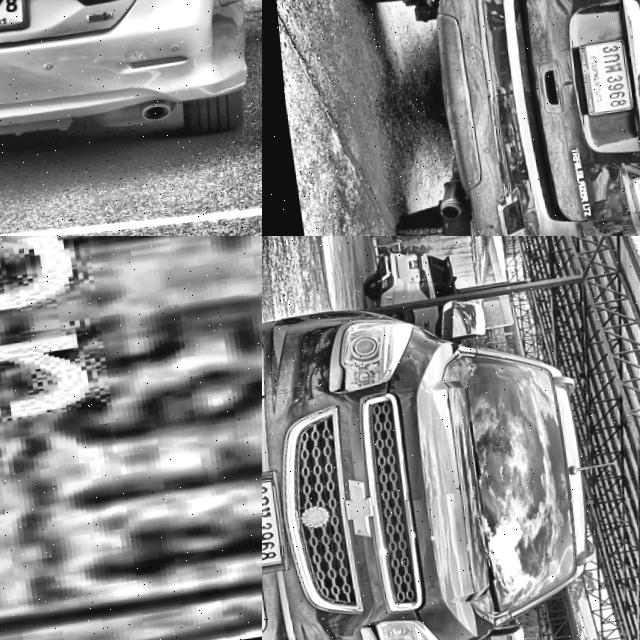license-plate: (0, 236, 262, 640), (71, 3, 146, 100), (563, 43, 630, 127), (262, 474, 281, 581)
